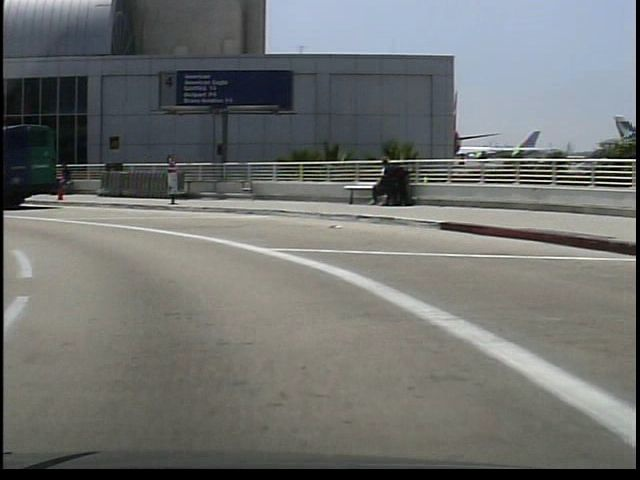person: (55, 160, 75, 199)
